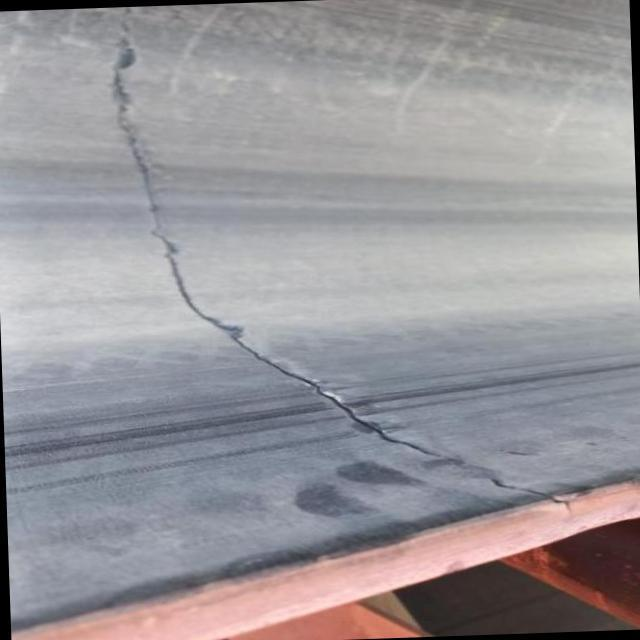Tear: (112, 9, 578, 516)
